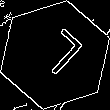L_SW: (26, 26, 84, 84)
